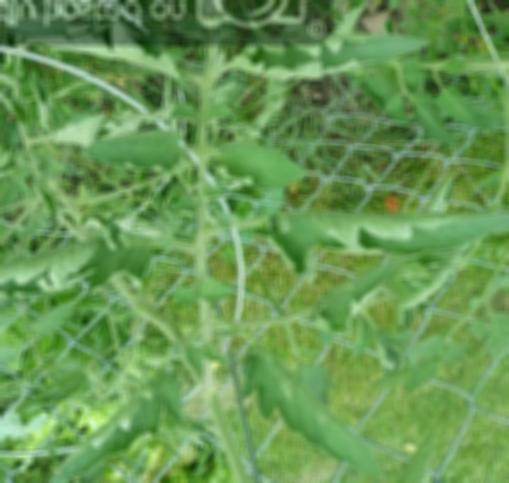Tomato mold leaf: (239, 350, 389, 480), (261, 198, 505, 275), (0, 233, 171, 295), (204, 127, 309, 192), (79, 122, 185, 171)
